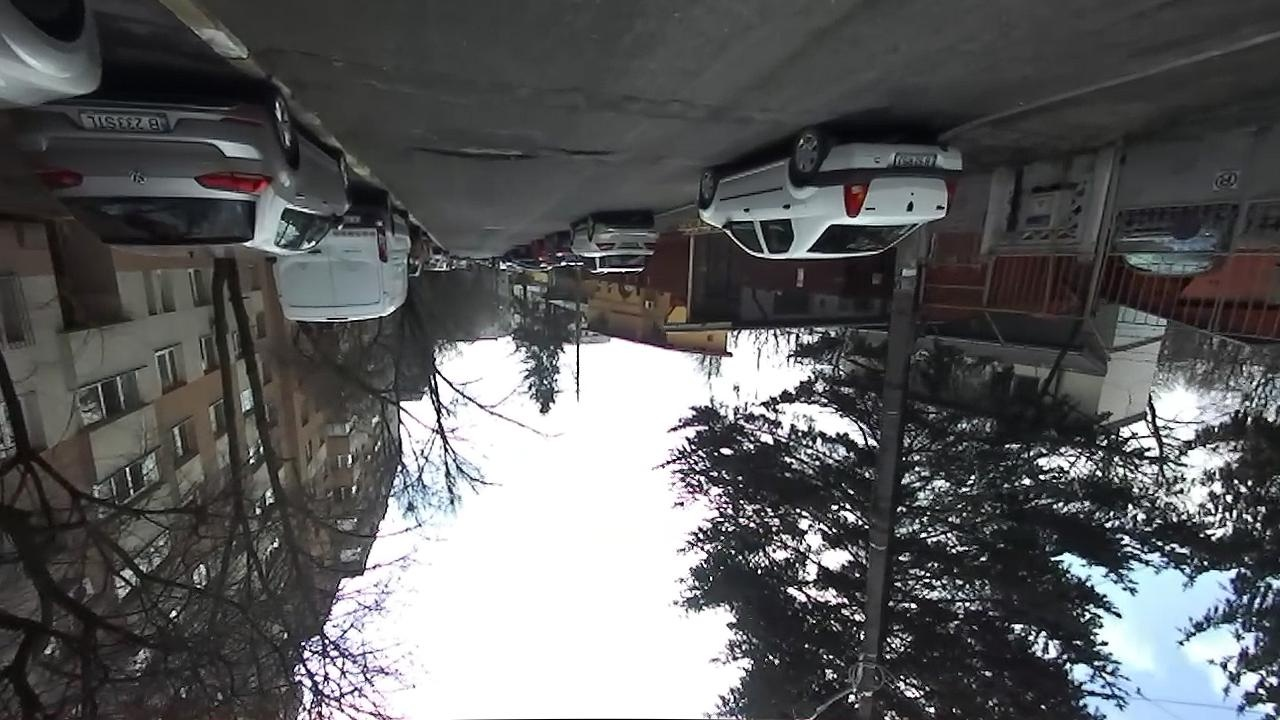pothole: (410, 142, 535, 164), (551, 145, 614, 158)
